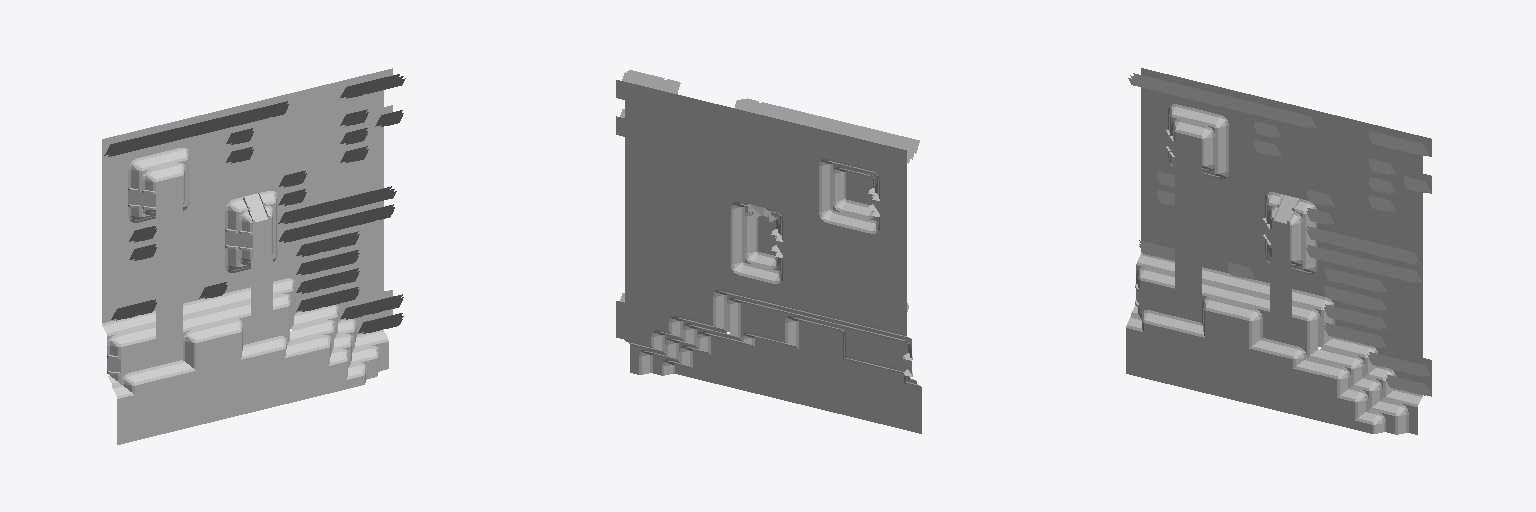
Rendered from Plat_full_18_12.obj.
3 views of the same model, side by side, from view 1: azimuth 30°, elevation 25°; view 2: azimuth 150°, elevation 25°; view 3: azimuth 330°, elevation 25° (orthographic).
Visible parts, largest first — view 1: map; view 2: map; view 3: map.
Boxes of the visible parts, box(x1,y1,x2,y2) form: map: box(102, 68, 405, 444); map: box(616, 70, 921, 433); map: box(1126, 68, 1431, 434).
Size of the model in its own units: 33.25 by 32.12 by 3.